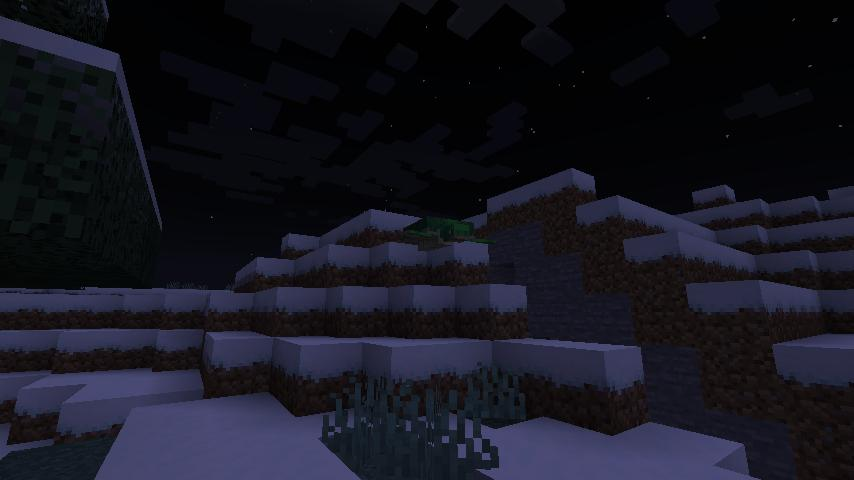turtle: (402, 211, 492, 249)
